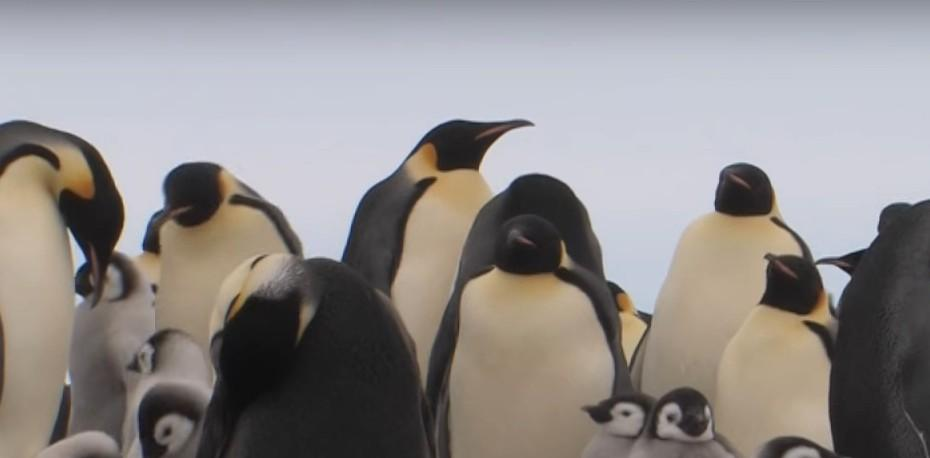Emperor Penguin: (176, 250, 448, 458), (624, 150, 838, 412), (424, 204, 644, 458), (0, 102, 130, 458), (114, 156, 326, 354), (351, 85, 535, 306), (726, 242, 852, 458), (829, 171, 930, 425)
